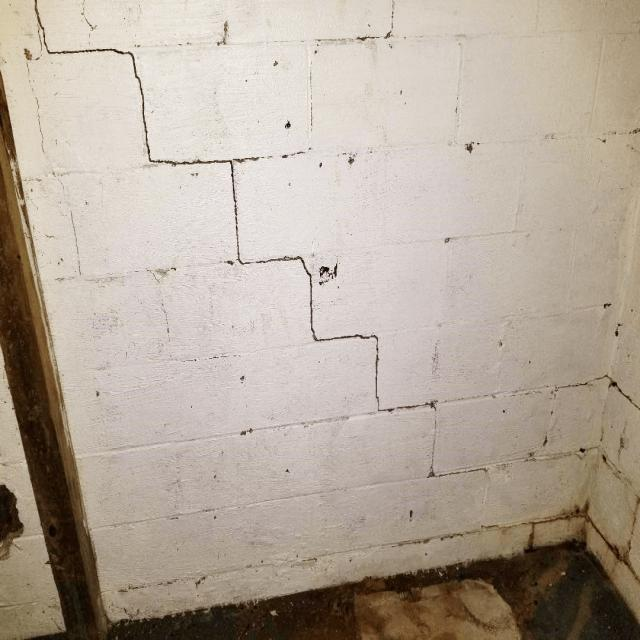Crack: (33, 0, 487, 480), (554, 370, 640, 409)
